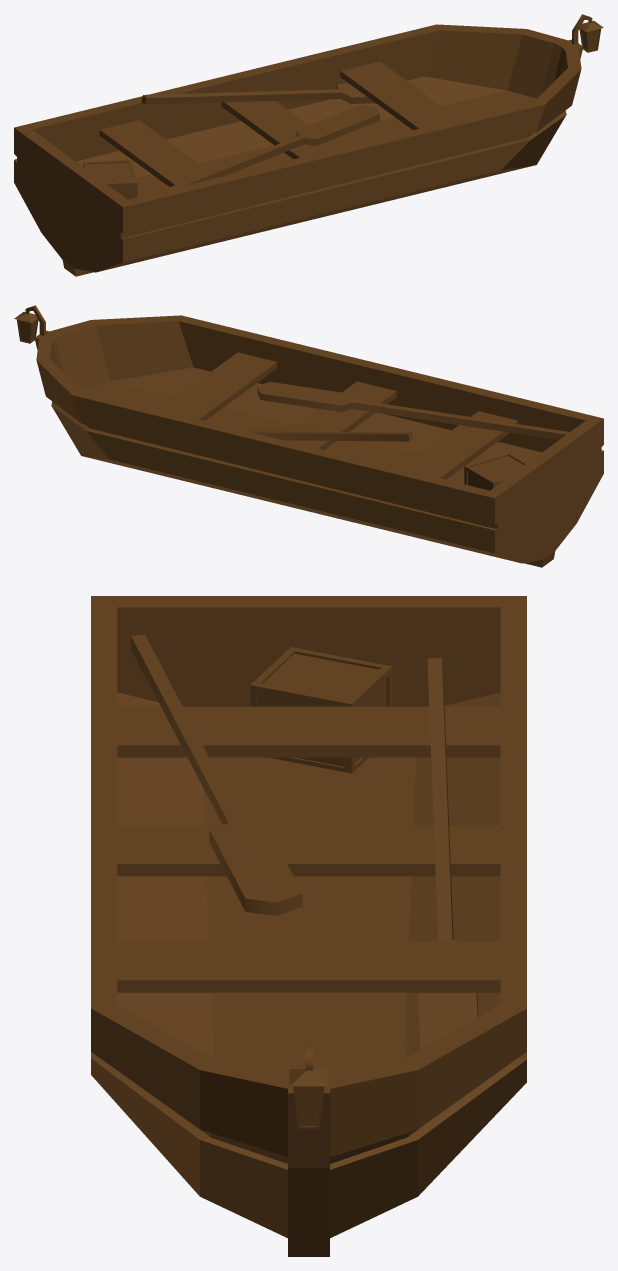
The model's file is Tiny_Boat_From_Over_The_Seas_GGJ_39_17.glb.
The picture shows the model from 3 angles, top to bottom: view 1: azimuth 30°, elevation 25°; view 2: azimuth 150°, elevation 25°; view 3: azimuth 270°, elevation 25°; orthographic projection. The views are drawn at different scales.
Parts seen in each view (by area): view 1: Boat_Barca_0, Bancos_Asientos_0, Remos_remos_0, caja_remos_0, cantos_Cajon_0; view 2: Boat_Barca_0, Bancos_Asientos_0, Remos_remos_0, caja_remos_0, cantos_Cajon_0; view 3: Boat_Barca_0, Bancos_Asientos_0, Remos_remos_0, caja_remos_0, cantos_Cajon_0, Farolillo002_BanderaPirata_0, CristalesFarolillos001_Cristales_0.
Part boxes in pixels (bbox=[...]): Boat_Barca_0: bbox=[14, 24, 583, 276]; Bancos_Asientos_0: bbox=[99, 61, 458, 186]; Remos_remos_0: bbox=[141, 82, 423, 192]; caja_remos_0: bbox=[87, 162, 133, 199]; cantos_Cajon_0: bbox=[83, 159, 137, 197]; Boat_Barca_0: bbox=[34, 315, 603, 567]; Bancos_Asientos_0: bbox=[159, 352, 518, 479]; Remos_remos_0: bbox=[246, 381, 569, 441]; caja_remos_0: bbox=[468, 456, 524, 490]; cantos_Cajon_0: bbox=[464, 452, 527, 489]; Boat_Barca_0: bbox=[91, 596, 526, 1256]; Bancos_Asientos_0: bbox=[117, 706, 500, 992]; Remos_remos_0: bbox=[131, 634, 478, 1049]; caja_remos_0: bbox=[258, 653, 386, 766]; cantos_Cajon_0: bbox=[250, 647, 392, 773]; Farolillo002_BanderaPirata_0: bbox=[289, 1069, 328, 1128]; CristalesFarolillos001_Cristales_0: bbox=[296, 1087, 321, 1125].
Size of the model in its own units: 93.89 by 22.38 by 33.43.
